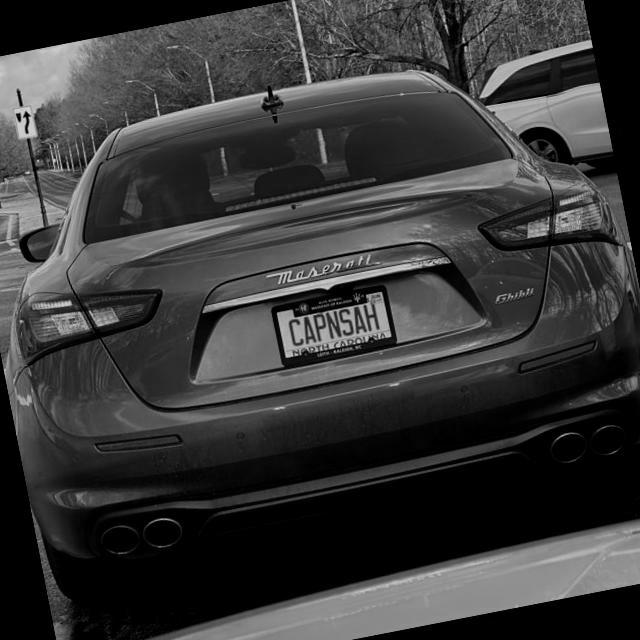LicensePlate: (270, 282, 398, 367)
